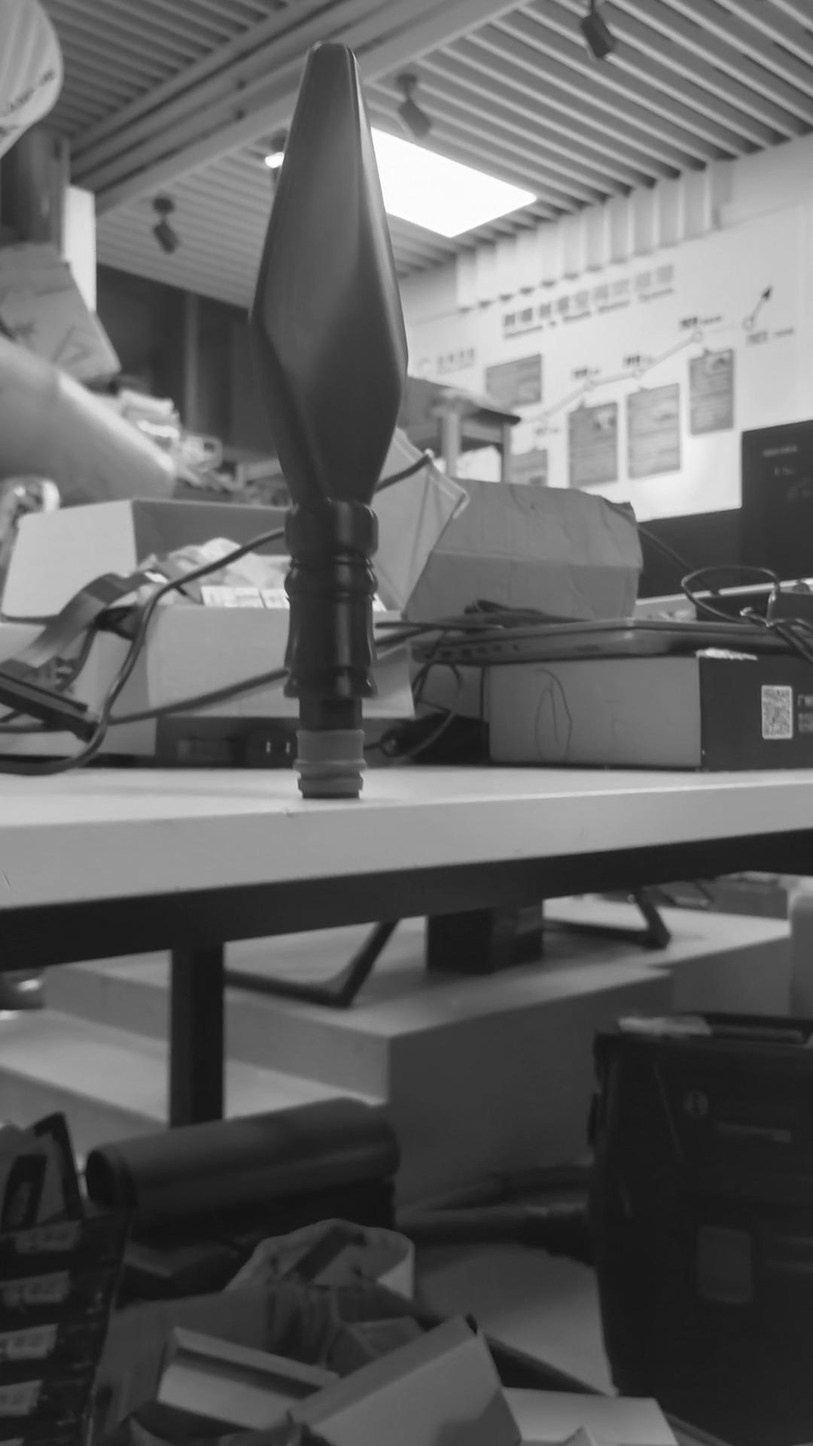base: (299, 728, 366, 793)
